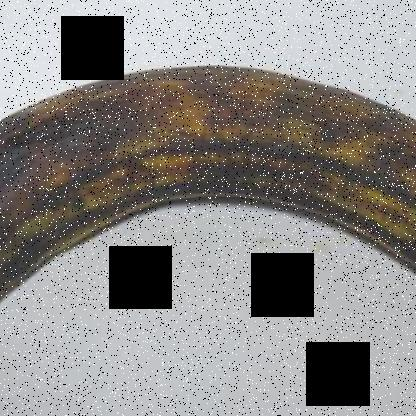overripe: (1, 47, 415, 356)
